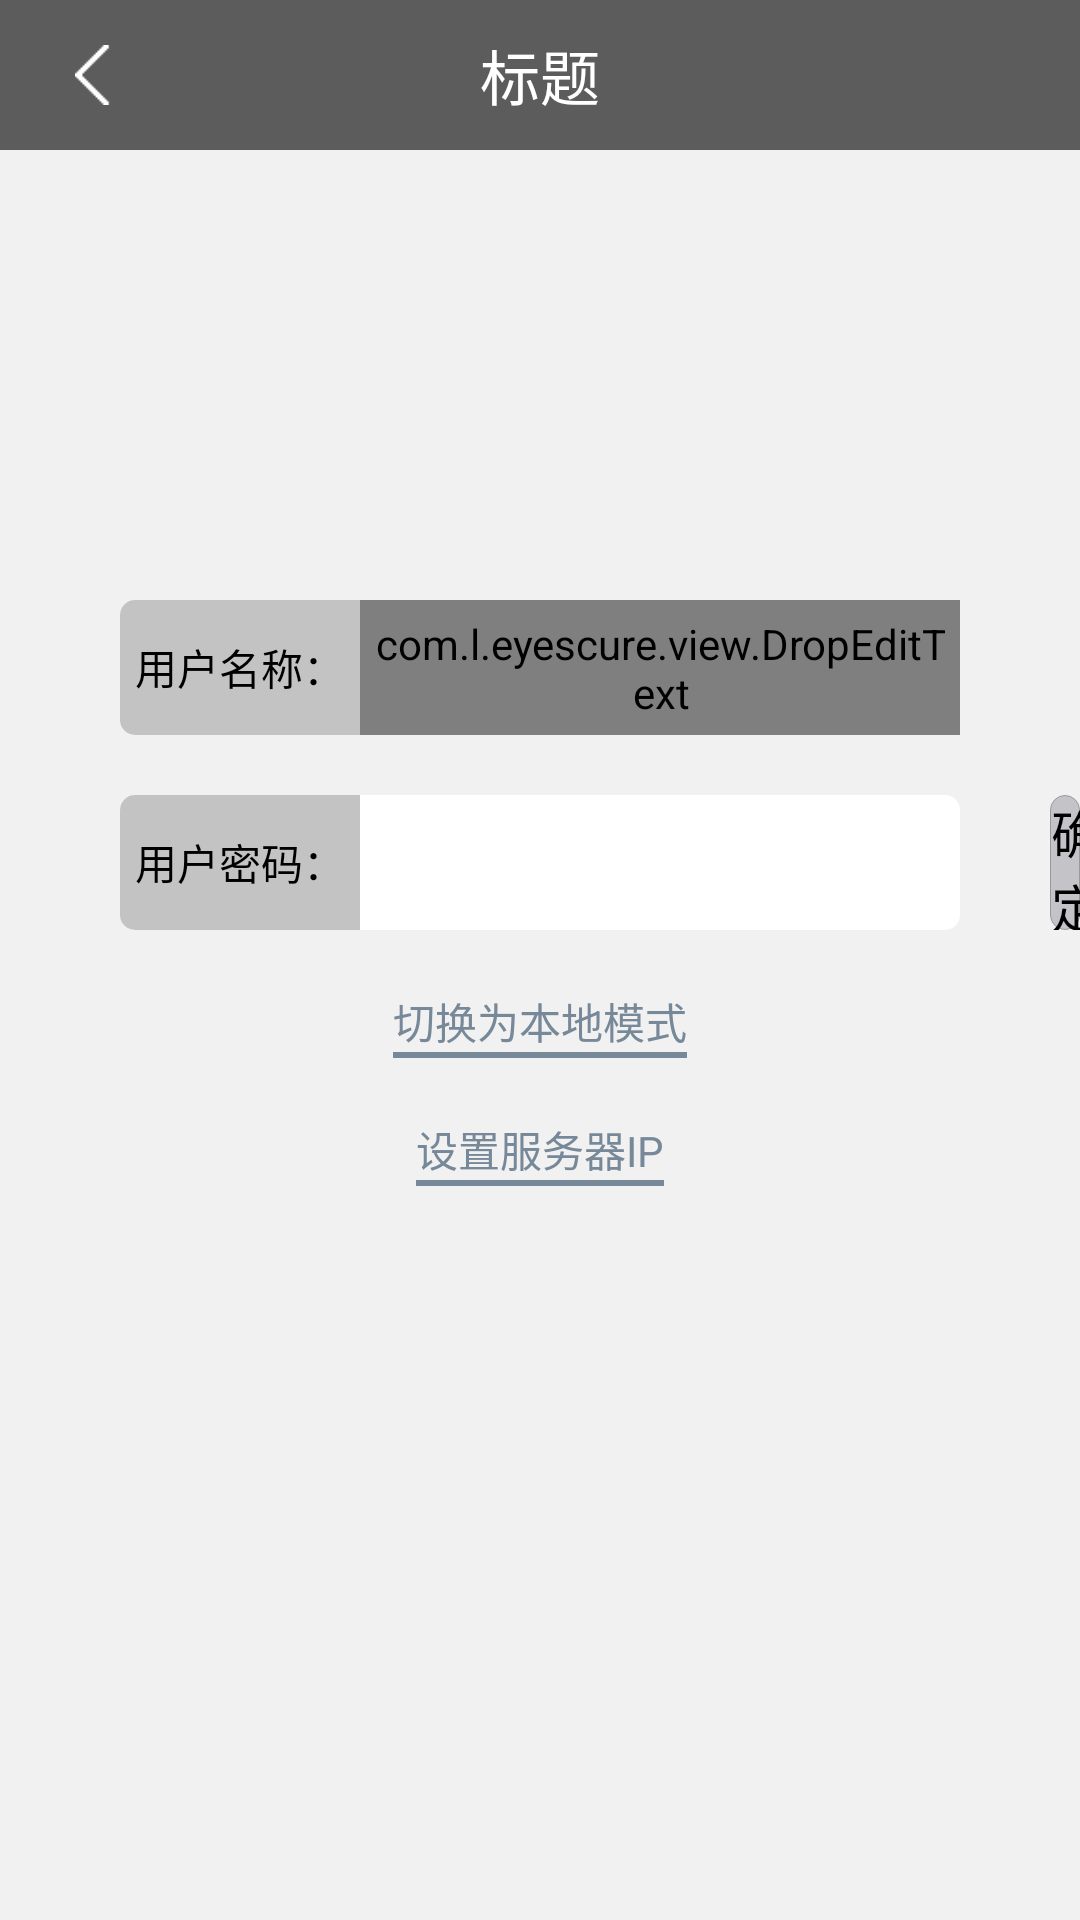

Screen size 1080*1920. Icon name, then its center in pixels as point (x, y):
back: point (92, 75)
